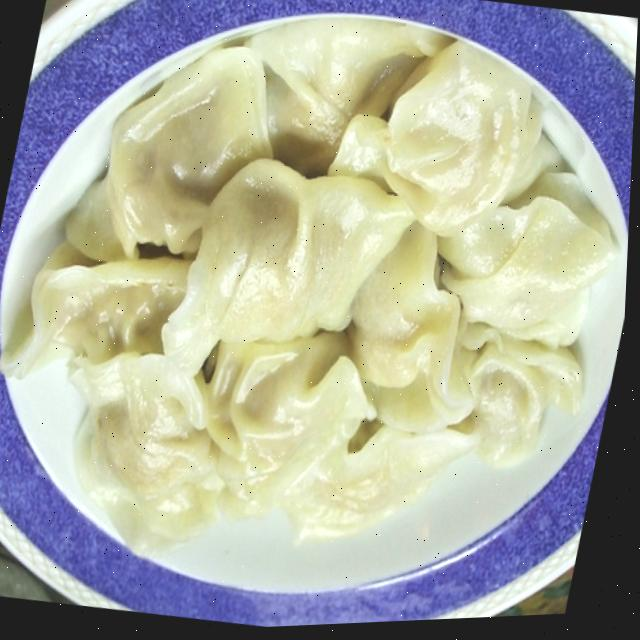带馅早点: (0, 0, 640, 629)
